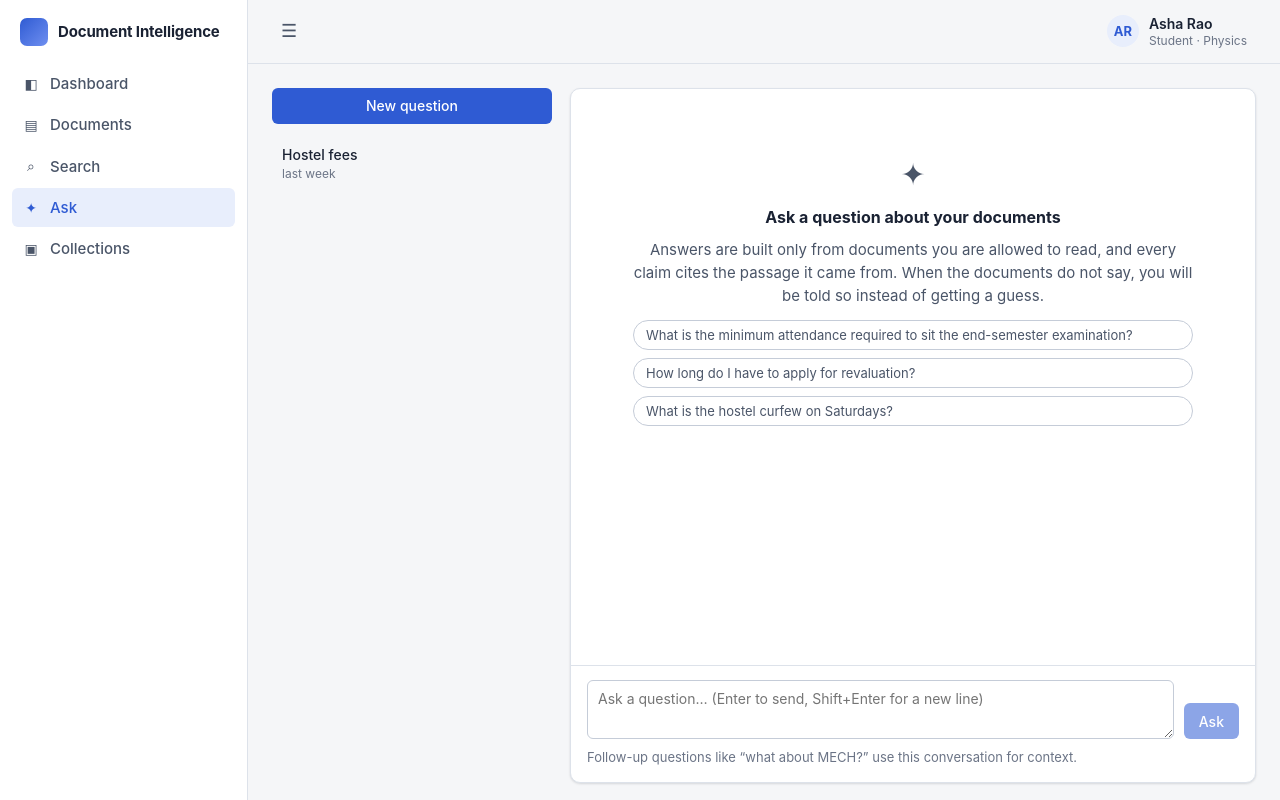
ChatPage › does not let a late first answer take over the conversation the user moved to
Step 1. Type "Pending question" into the text box named "Your question" → (880, 710), box [587,680,1174,739]
Then press Enter
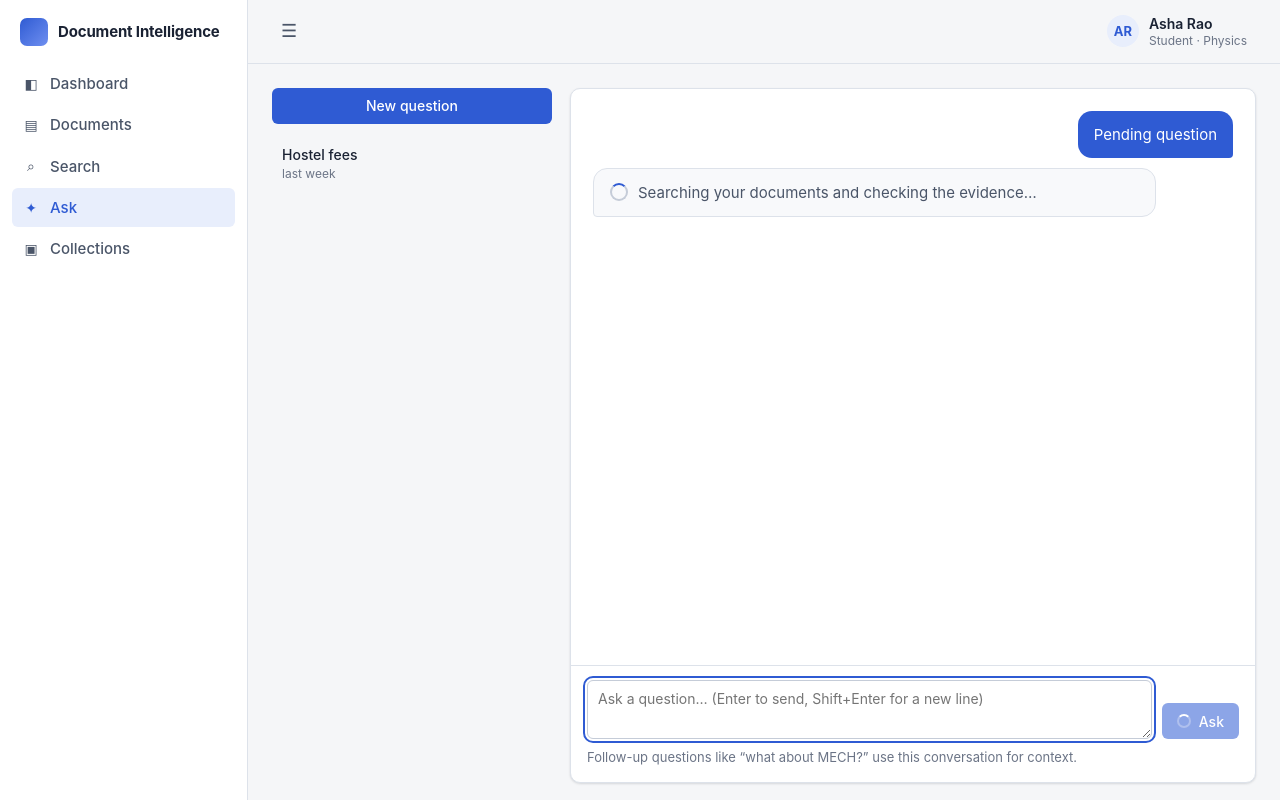
Expected: the text "Pending question" is shown, [1094,122,1217,146]
While it is being answered, open another conversation.
Step 2. Click the link "Hostel fees last week" → (320, 163), box [282,146,358,181]
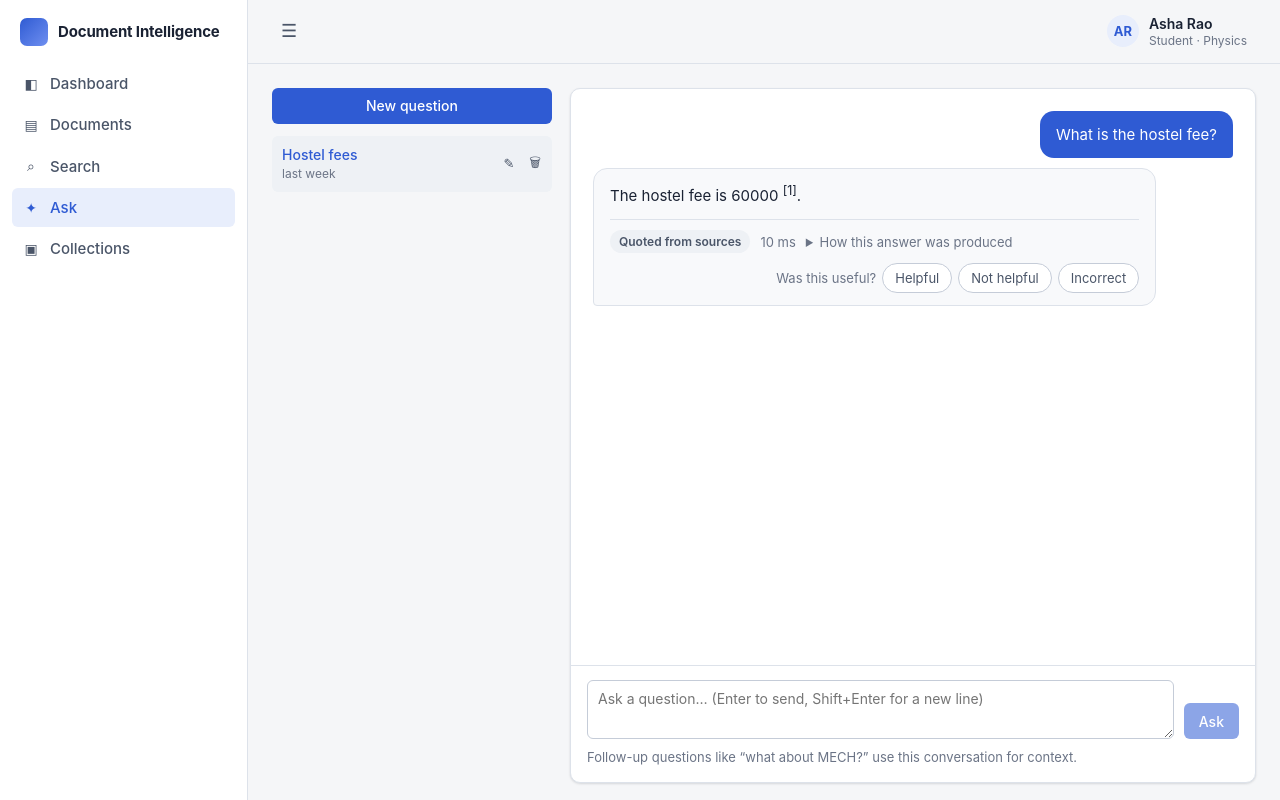
Expected: the text "Pending question" is gone
Expected: the text "What is the hostel fee?" is shown, [1056,122,1217,146]
